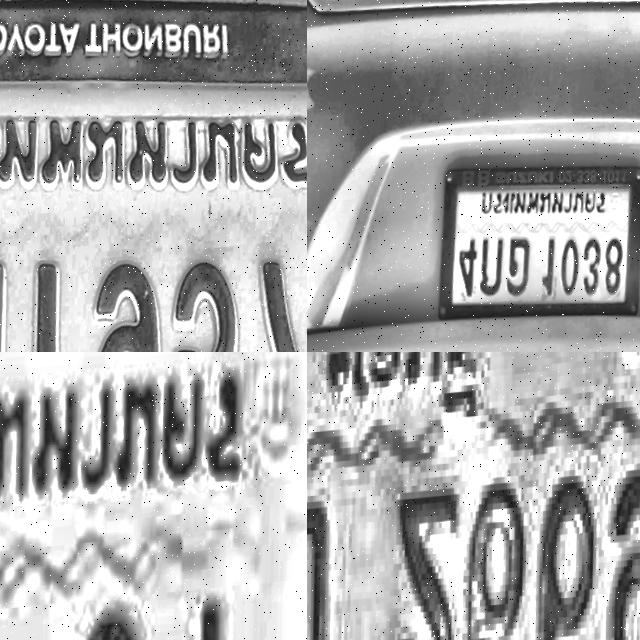license-plate: (0, 0, 307, 352), (307, 352, 640, 640), (0, 352, 307, 640), (429, 146, 640, 342)
